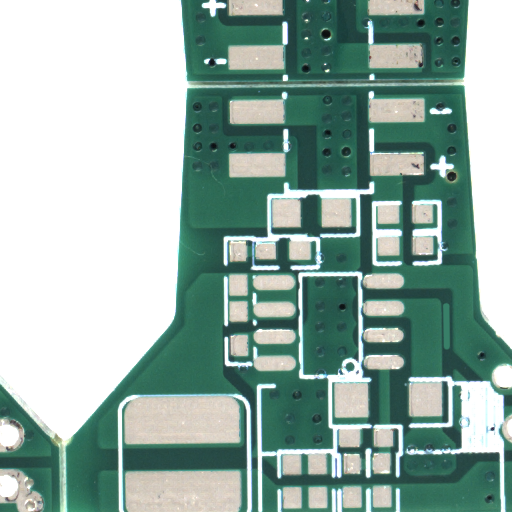Spurious_copper: (446, 325, 455, 374)
